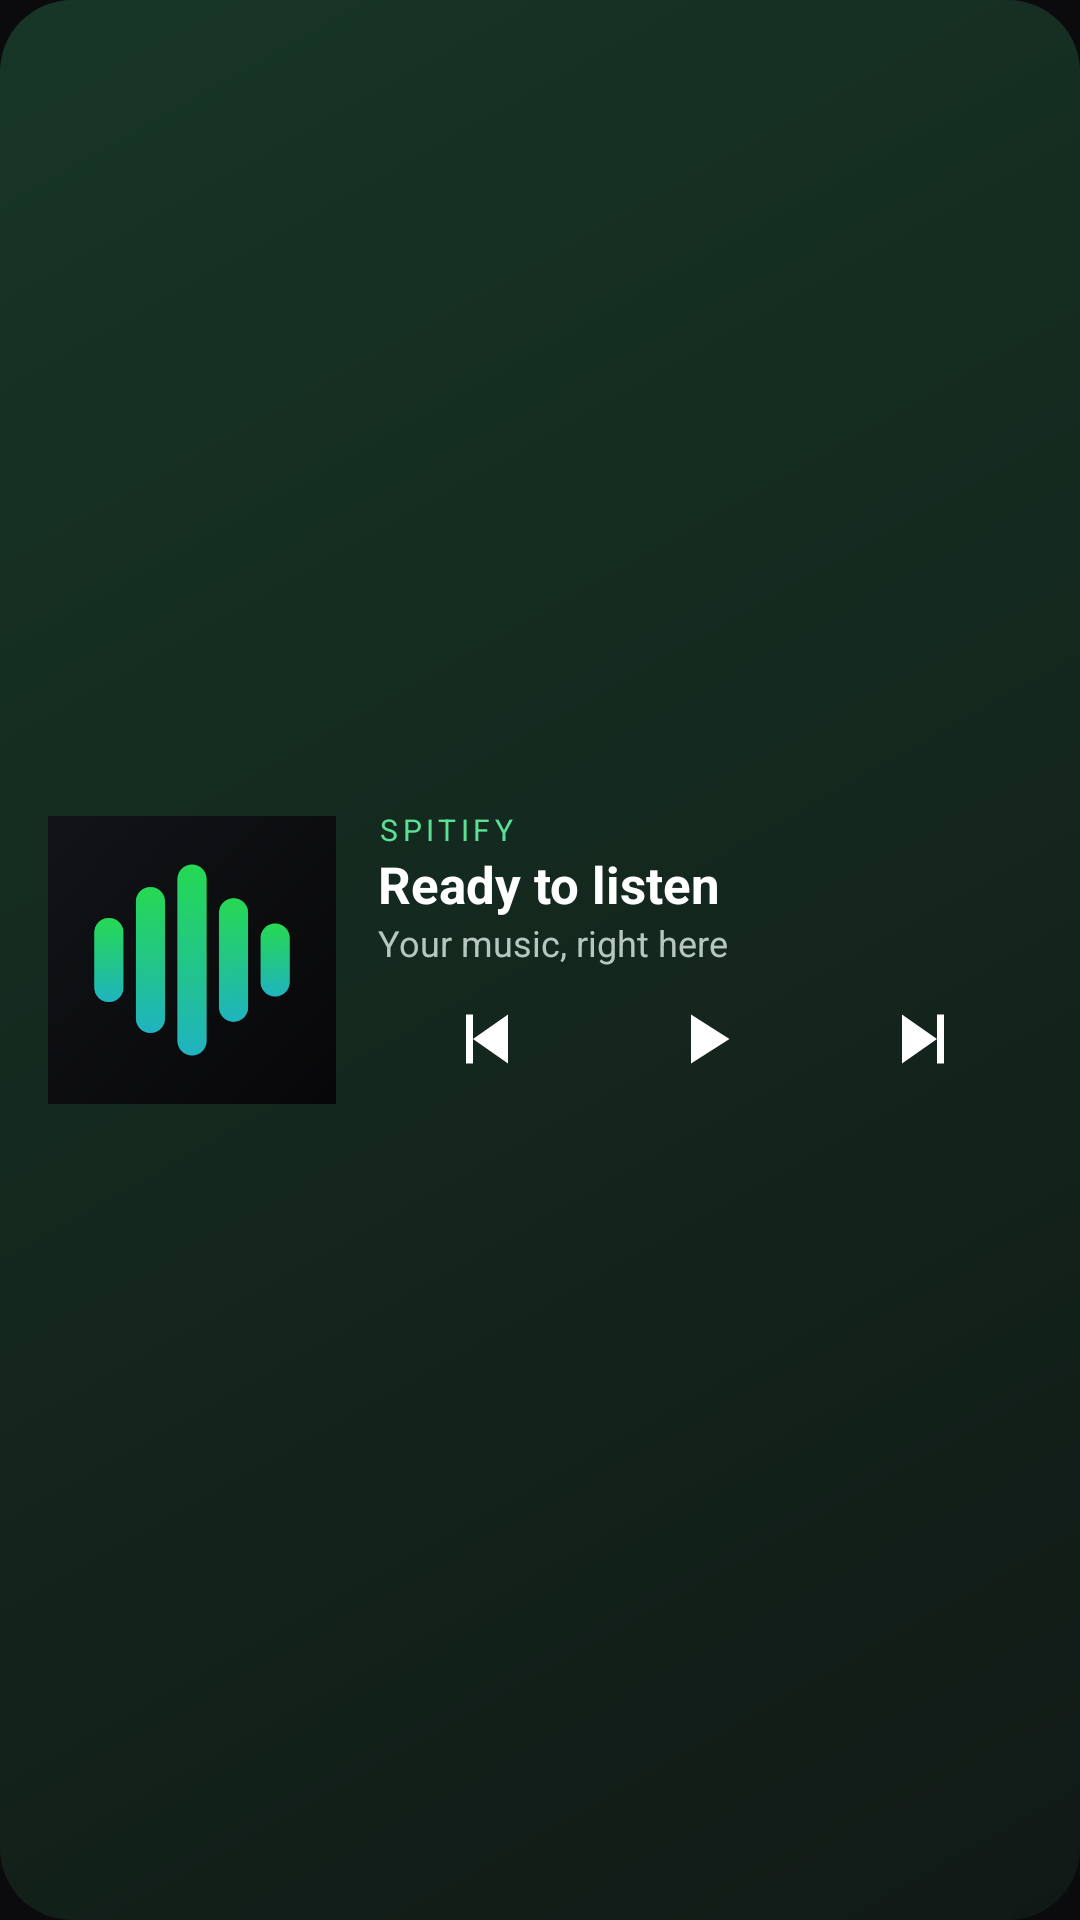

Icon click points for this 1080 x 1920 phone screenshot, format (x,y):
Next: (923,1039)
Play: (710,1039)
Previous: (487,1039)
